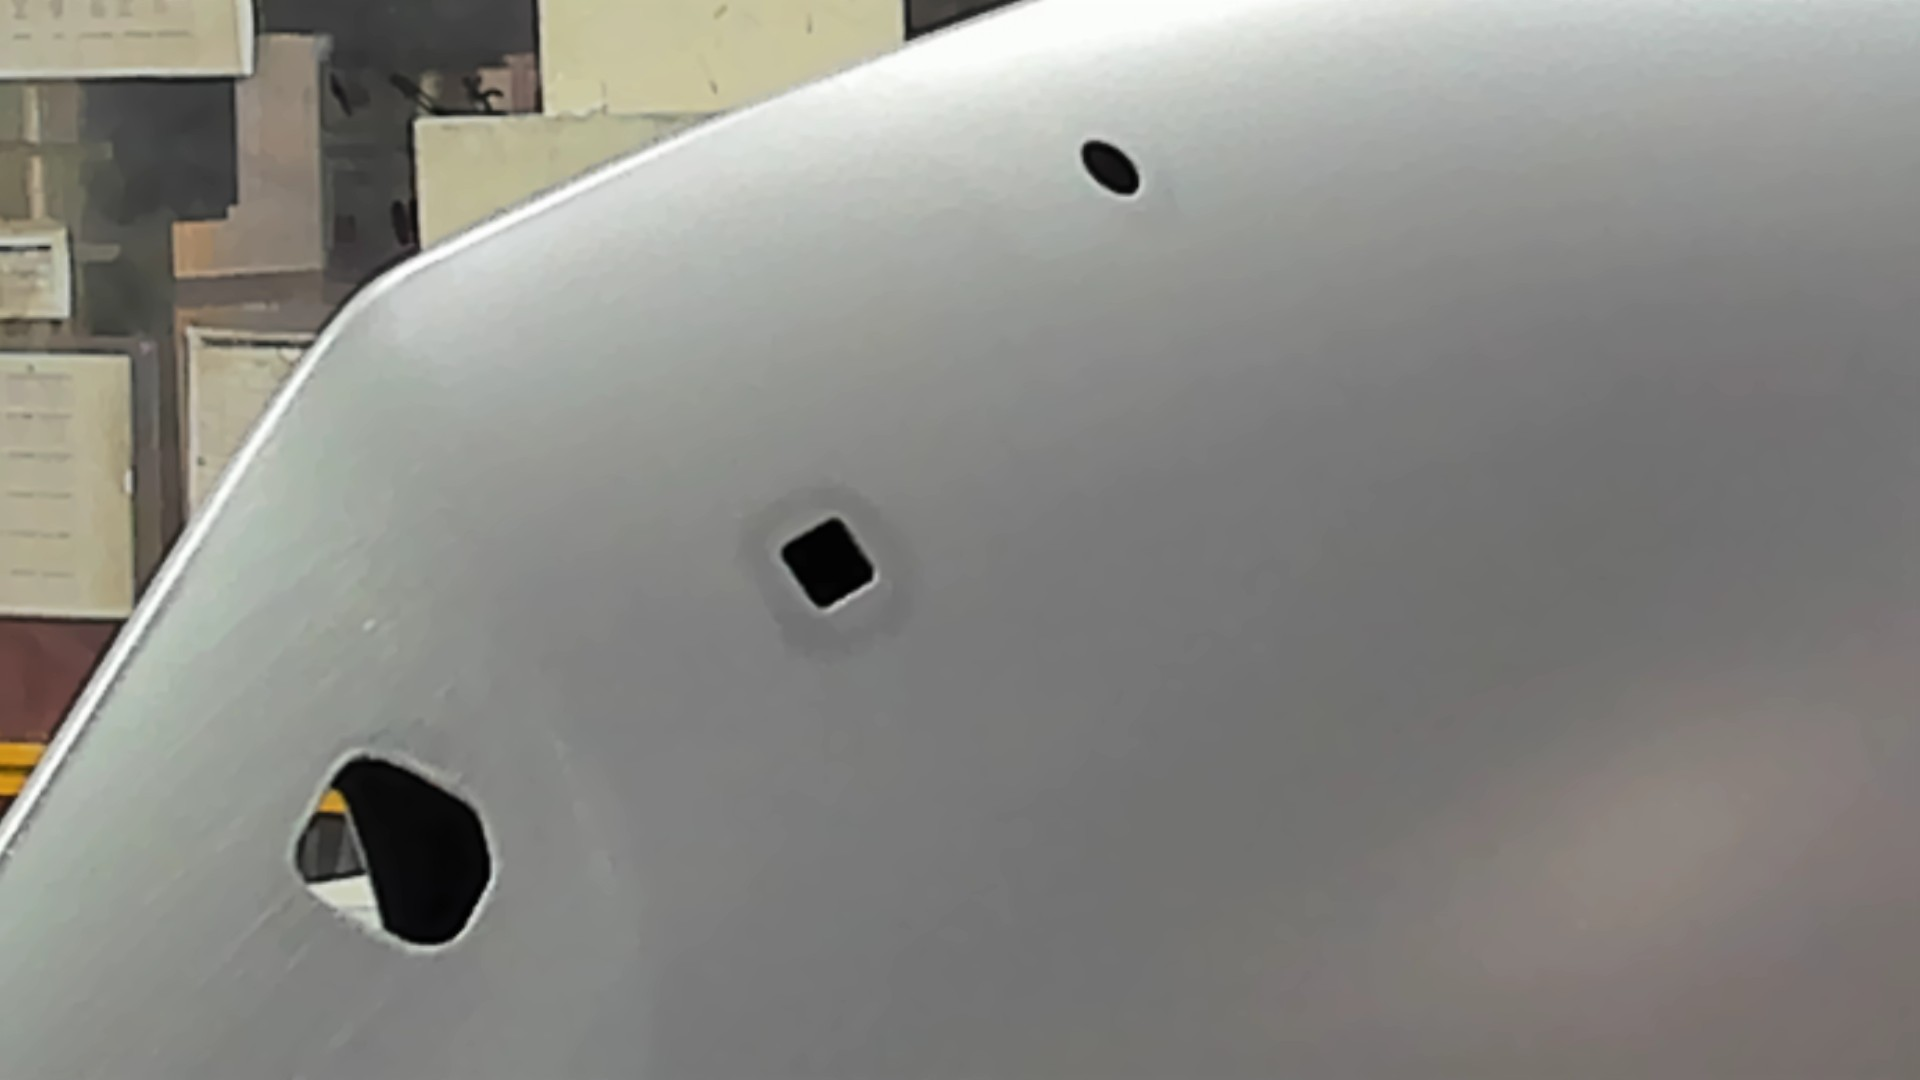chico: (1076, 137, 1145, 198)
grande: (284, 746, 502, 956)
mediano: (775, 514, 881, 618)
